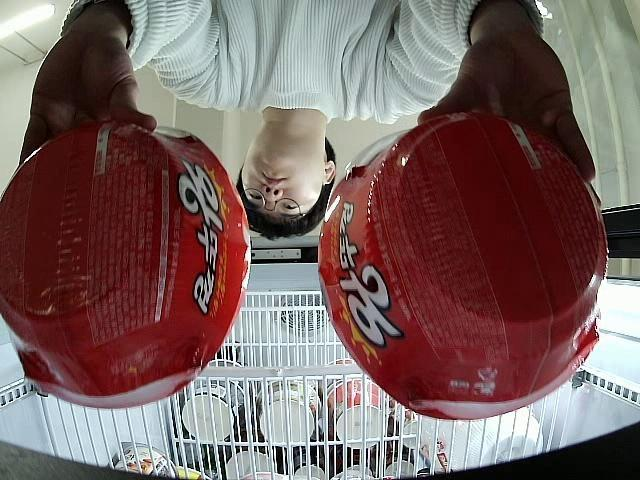10_wangTtukkeong: (318, 112, 610, 422), (0, 118, 251, 410)
